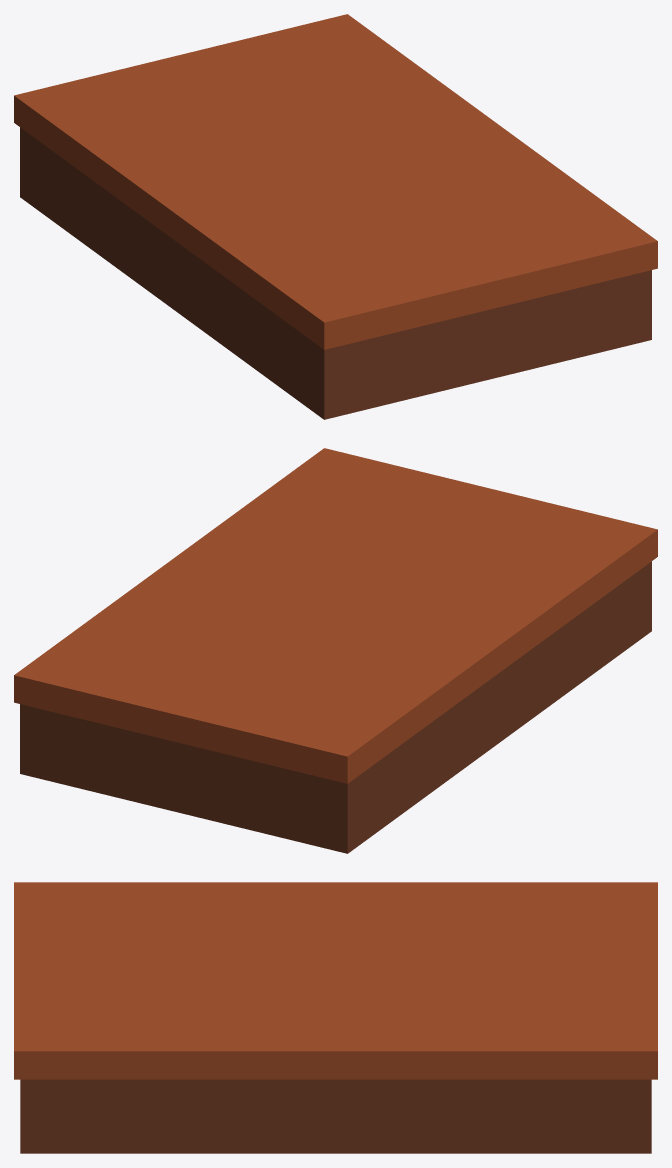
The model's file is Caixa2.fbx.
3 renders of one model, top to bottom at view 1: azimuth 30°, elevation 25°; view 2: azimuth 150°, elevation 25°; view 3: azimuth 270°, elevation 25°, orthographic. The views are drawn at different scales.
Parts seen in each view (by area): view 1: Cube.001, Cube; view 2: Cube.001, Cube; view 3: Cube.001, Cube.
Part boxes in pixels (bbox=[...]): Cube.001: bbox=[14, 14, 657, 349]; Cube: bbox=[20, 127, 651, 419]; Cube.001: bbox=[14, 448, 657, 783]; Cube: bbox=[20, 561, 651, 853]; Cube.001: bbox=[14, 882, 657, 1079]; Cube: bbox=[20, 1079, 651, 1153].
Size of the model in its own units: 307 by 88.18 by 495.
